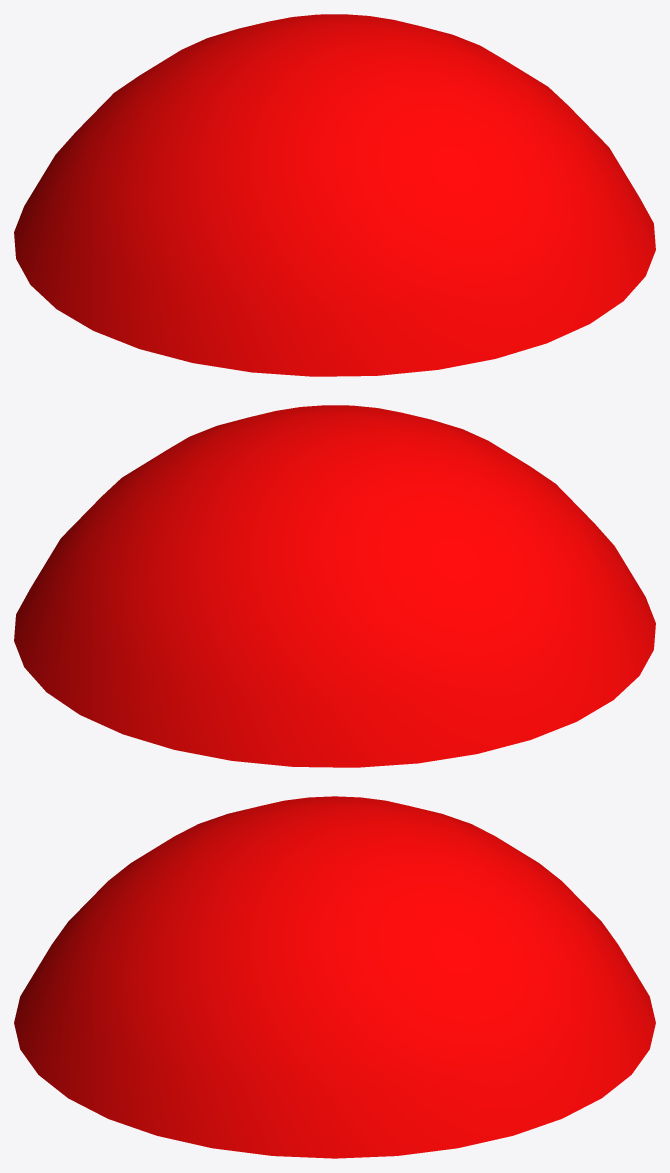
File: Red Shield Ex.FBX
3 renders of one model, top to bottom at view 1: azimuth 30°, elevation 25°; view 2: azimuth 150°, elevation 25°; view 3: azimuth 270°, elevation 25°, orthographic.
Parts seen in each view (by area): view 1: Roof Force Field; view 2: Roof Force Field; view 3: Roof Force Field.
Part boxes in pixels (bbox=[...]): Roof Force Field: bbox=[14, 14, 655, 376]; Roof Force Field: bbox=[14, 405, 655, 767]; Roof Force Field: bbox=[14, 796, 655, 1158].
Bounding box in the file's own units: 2128 × 711 × 2128.
